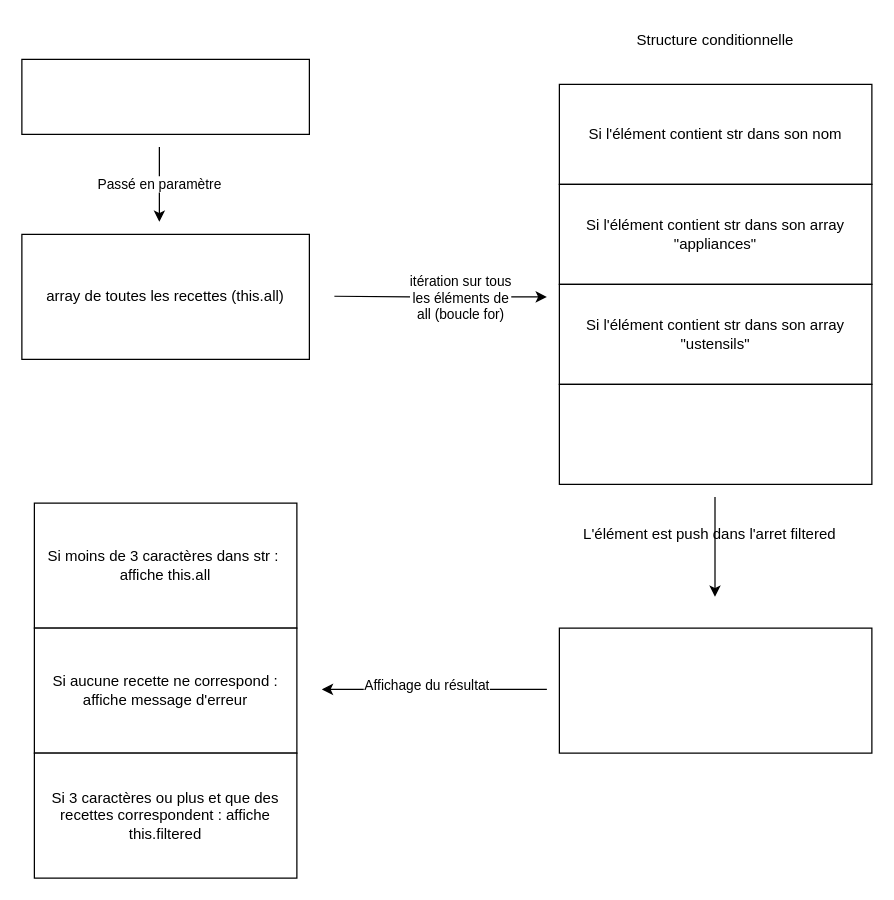
Image size: 894x900. Some labels were removed from this diagram. The shapes that lost their labels are listed below. From the top down, each one's box as (x1, y1, x2, y2) in pixels, then its label:
(21, 58, 309, 134): string de l'input (str)
(558, 383, 872, 484): Si l'élément contient str dans son array "ingredients"
(558, 627, 872, 753): Array des recette filtrées (this.filtered)
